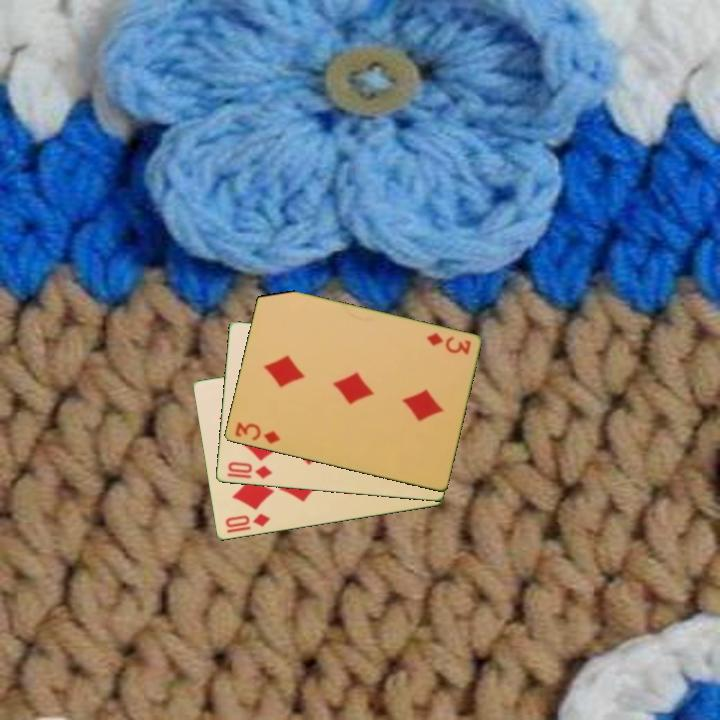10d: (224, 459, 275, 482), (221, 510, 273, 531)
3d: (231, 419, 283, 447), (423, 330, 473, 358)
